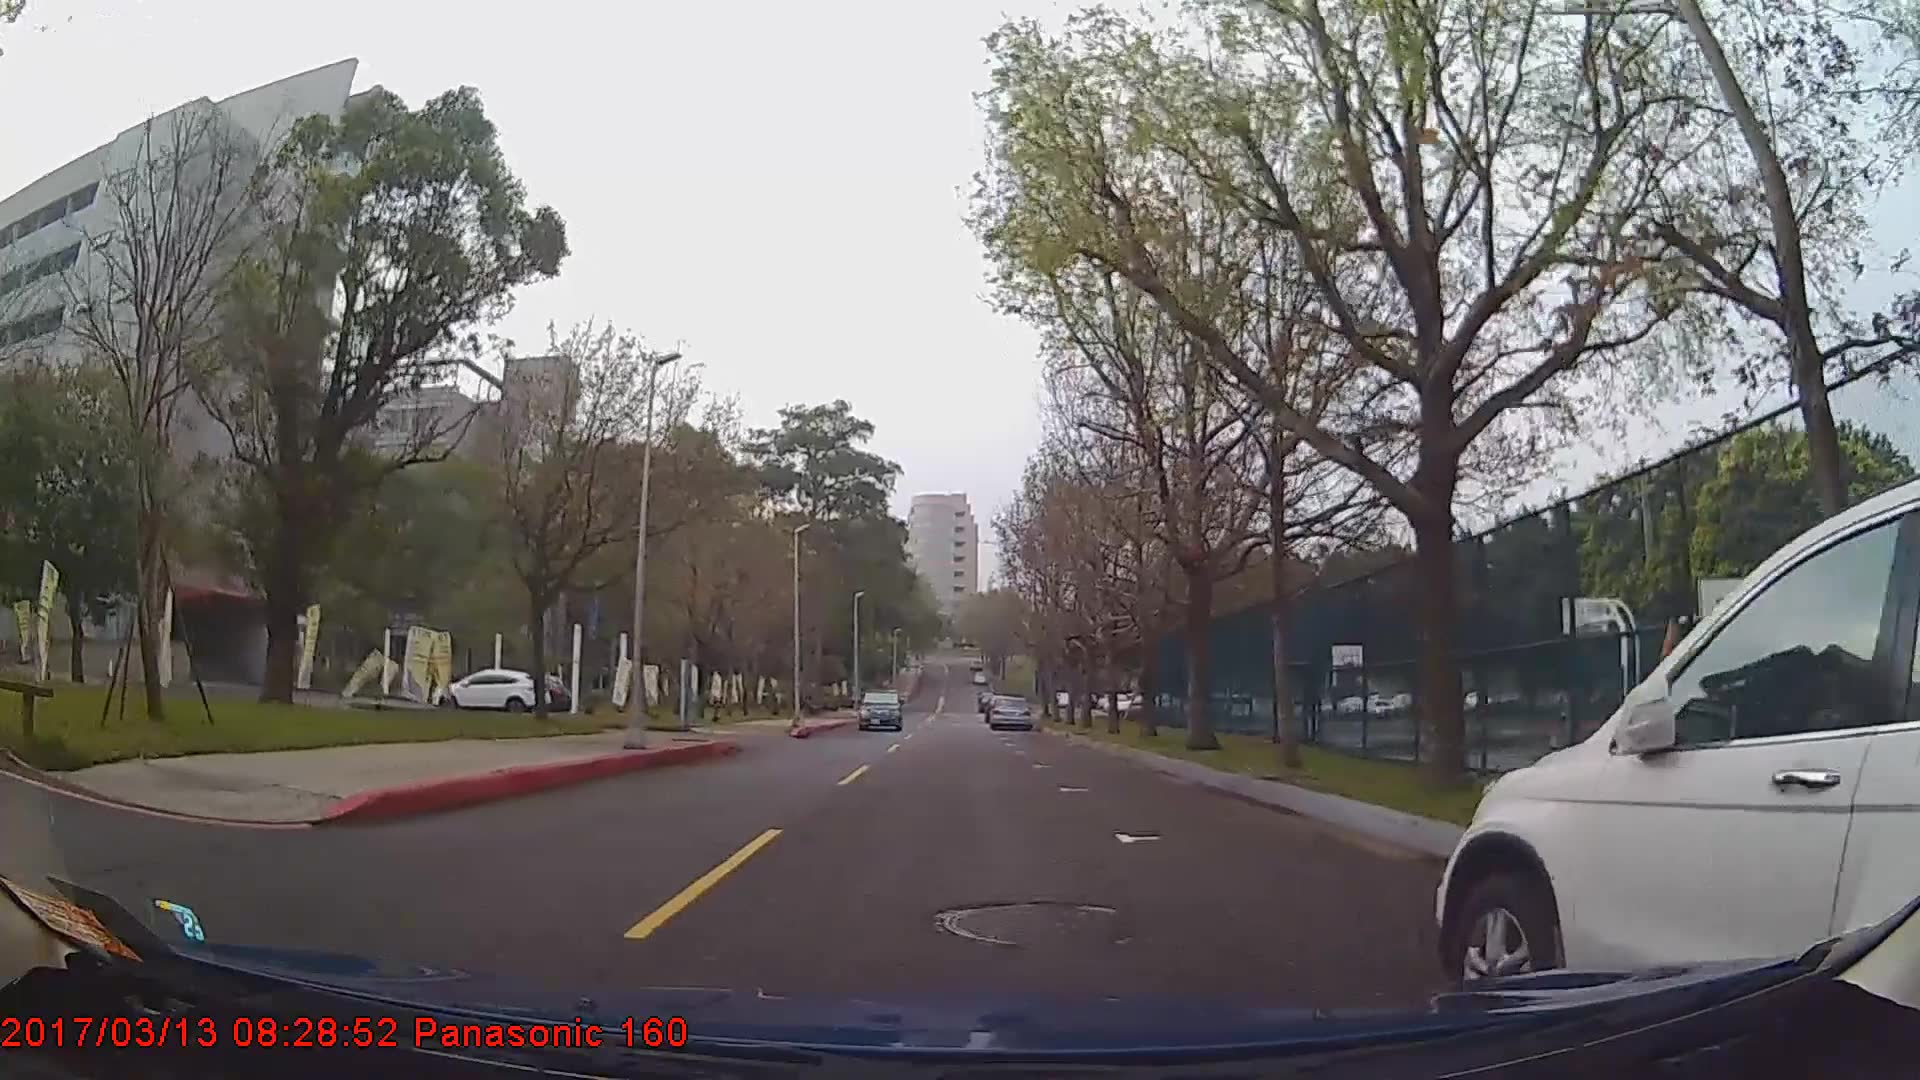vehicle: (1436, 483, 1920, 1029), (433, 666, 550, 715), (858, 684, 903, 733), (988, 694, 1033, 733)
